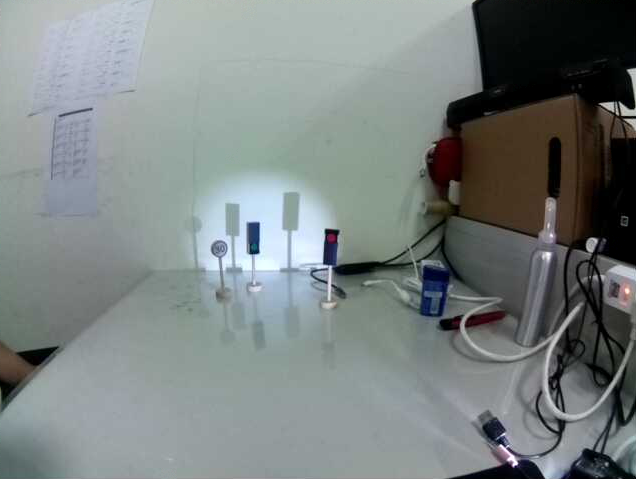Green: (246, 219, 262, 256)
Red: (322, 227, 339, 267)
Speed30: (210, 238, 229, 259)
